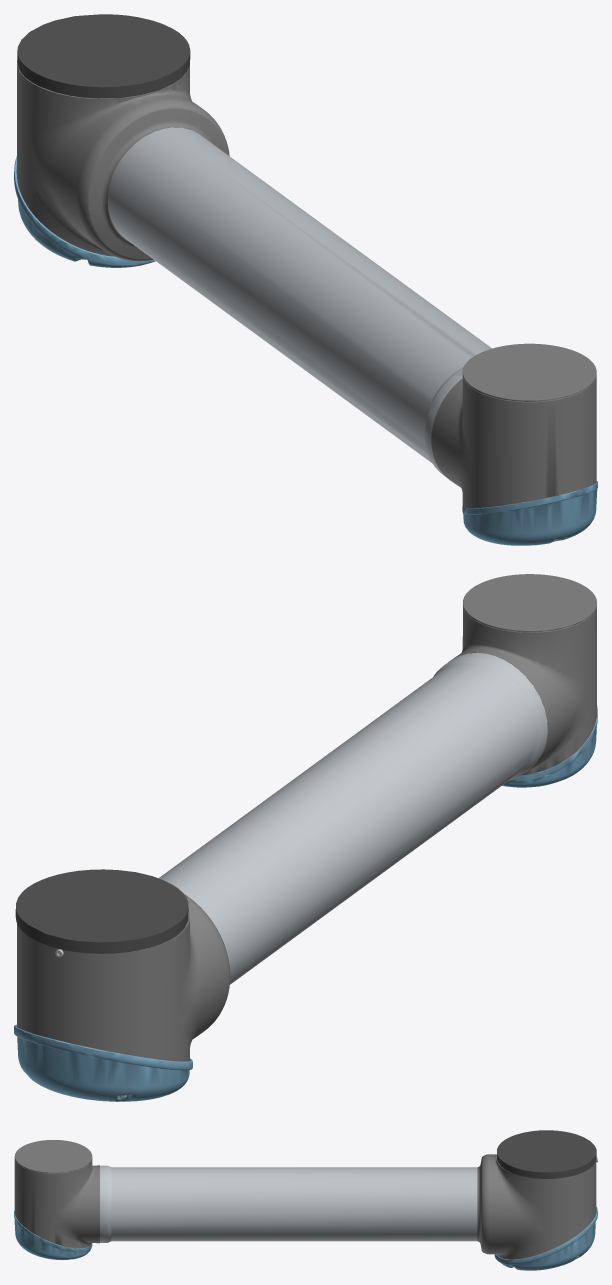
The picture shows the model from 3 angles, top to bottom: view 1: azimuth 30°, elevation 25°; view 2: azimuth 150°, elevation 25°; view 3: azimuth 270°, elevation 25°; orthographic projection. The views are drawn at different scales.
Visible parts, largest first — view 1: /node-shape3-name/shape3-mesh/0, /node-shape0-name/shape0-mesh/0, /node-shape4-name/shape4-mesh/0, /node-shape1-name/shape1-mesh/0; view 2: /node-shape3-name/shape3-mesh/0, /node-shape0-name/shape0-mesh/0, /node-shape4-name/shape4-mesh/0, /node-shape1-name/shape1-mesh/0; view 3: /node-shape3-name/shape3-mesh/0, /node-shape0-name/shape0-mesh/0, /node-shape4-name/shape4-mesh/0, /node-shape1-name/shape1-mesh/0.
Boxes of the visible parts, bbox=[...] form: /node-shape3-name/shape3-mesh/0: bbox=[107, 127, 491, 477]; /node-shape0-name/shape0-mesh/0: bbox=[17, 60, 596, 508]; /node-shape4-name/shape4-mesh/0: bbox=[17, 14, 190, 98]; /node-shape1-name/shape1-mesh/0: bbox=[14, 156, 597, 545]; /node-shape3-name/shape3-mesh/0: bbox=[159, 652, 547, 984]; /node-shape0-name/shape0-mesh/0: bbox=[17, 574, 596, 1061]; /node-shape4-name/shape4-mesh/0: bbox=[15, 869, 188, 953]; /node-shape1-name/shape1-mesh/0: bbox=[14, 705, 597, 1101]; /node-shape3-name/shape3-mesh/0: bbox=[100, 1165, 477, 1242]; /node-shape0-name/shape0-mesh/0: bbox=[14, 1140, 596, 1259]; /node-shape4-name/shape4-mesh/0: bbox=[497, 1130, 596, 1178]; /node-shape1-name/shape1-mesh/0: bbox=[14, 1206, 597, 1270].
Size of the model in its own units: 0.12 by 0.1362 by 0.6775.
